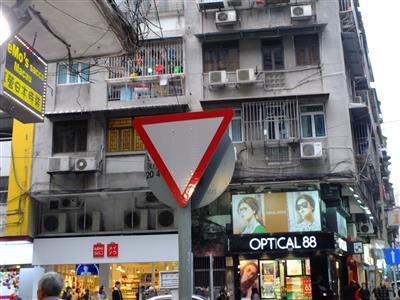yield: (129, 105, 235, 208)
